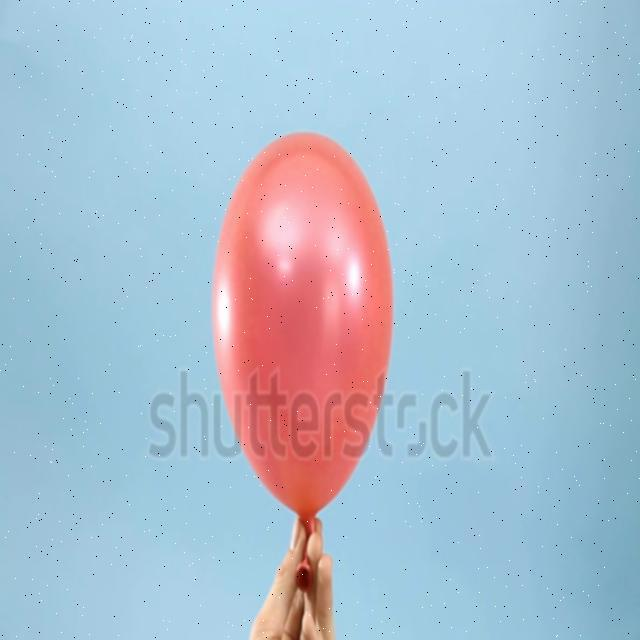red: (210, 129, 393, 535)
